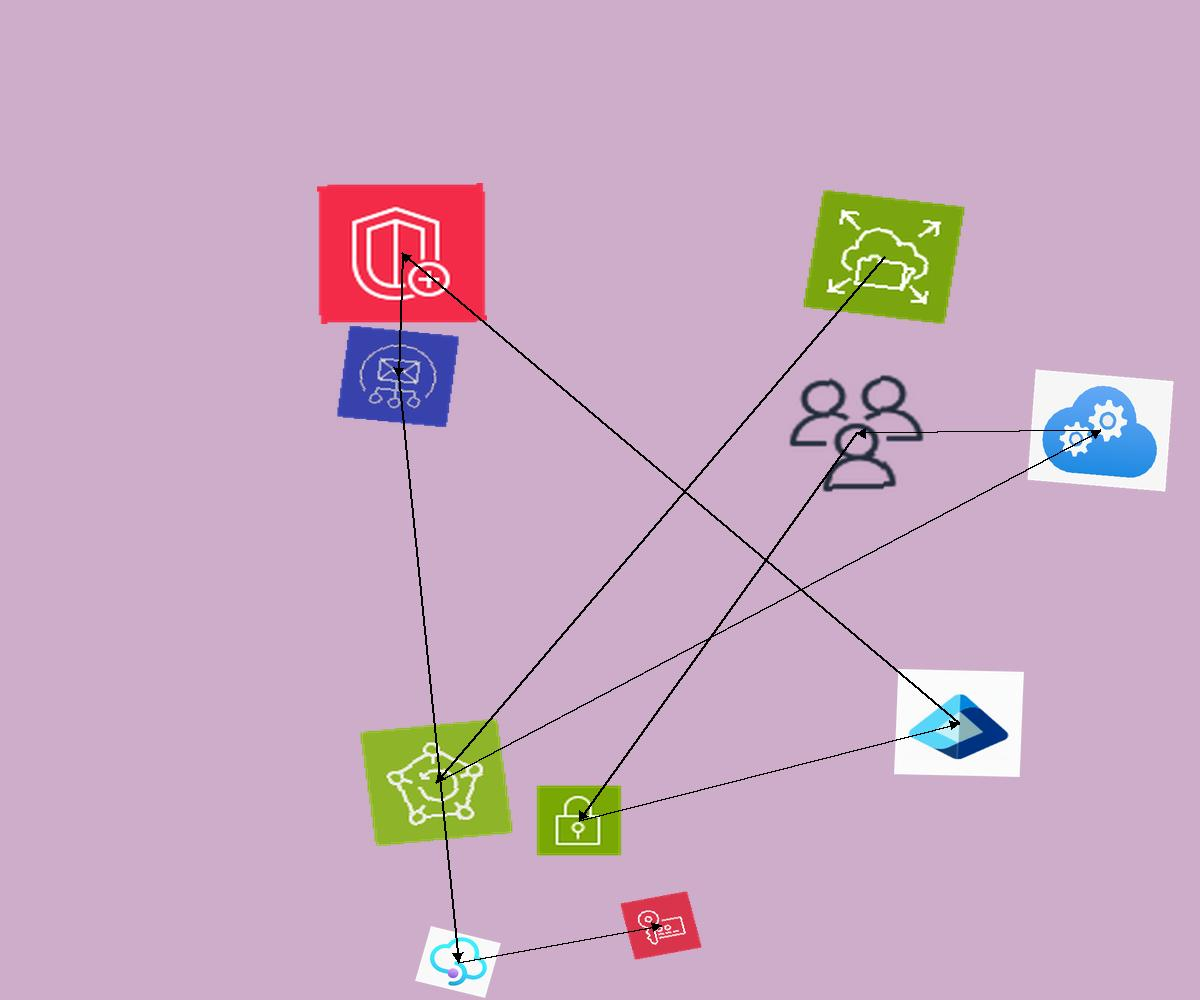AWS-Backup: (359, 718, 514, 847)
AWS-EFS: (802, 189, 966, 325)
AWS-Key-Management-Service: (620, 891, 702, 960)
AWS-Public-subnet: (535, 784, 623, 857)
AWS-Res_Users: (778, 368, 935, 499)
AWS-Shield: (317, 183, 487, 324)
AWS-Simple-Email-Service: (336, 325, 460, 428)
Azure_api_gateway: (415, 926, 501, 998)
Azure_cloud_services: (1027, 369, 1174, 492)
Azure_microsoft_entra: (894, 669, 1024, 777)
